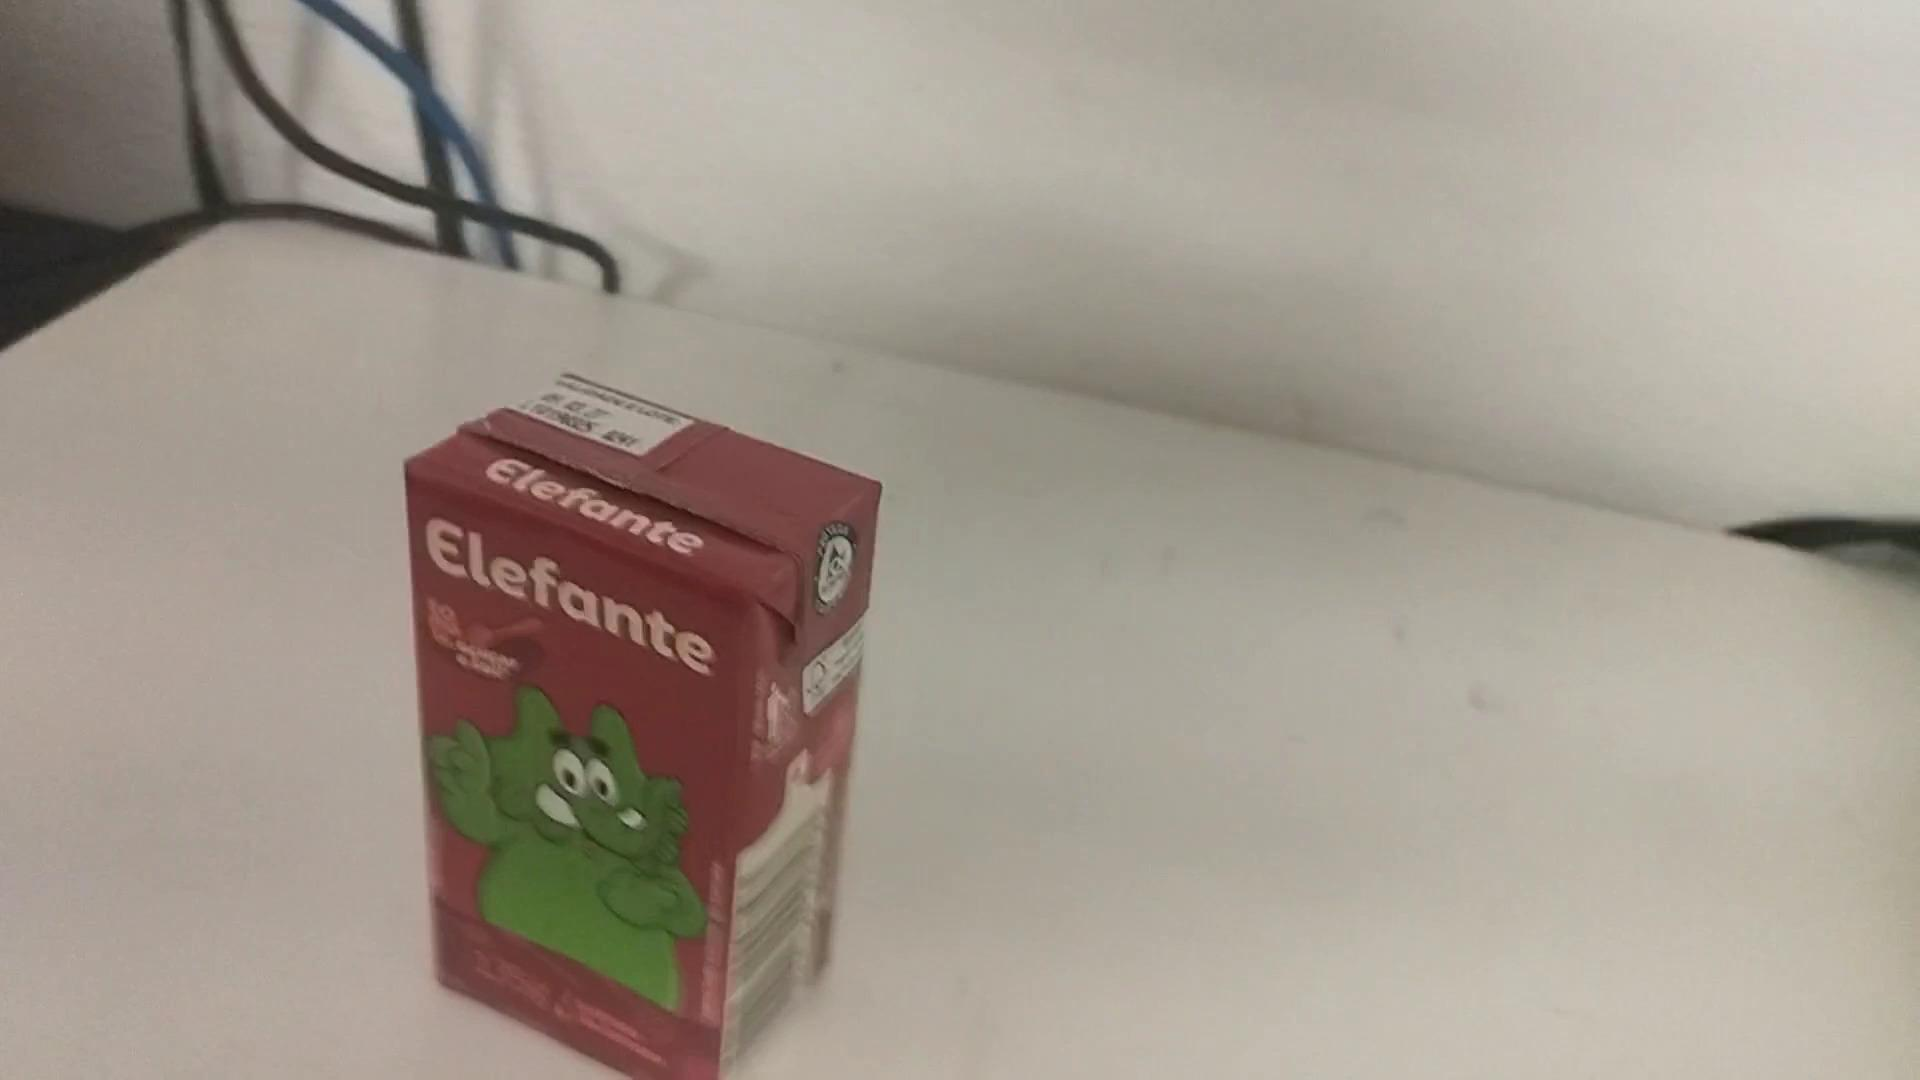tomate: (400, 364, 881, 1067)
